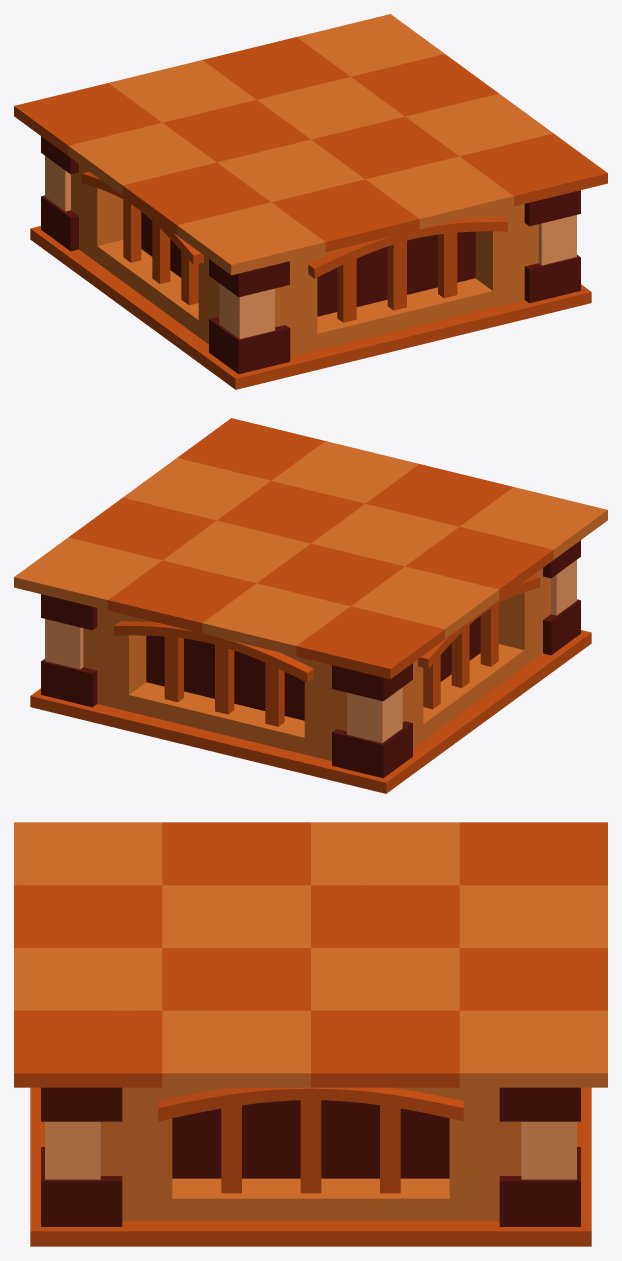
The model's file is Moving Platform Model.fbx.
The picture shows the model from 3 angles, top to bottom: view 1: azimuth 30°, elevation 25°; view 2: azimuth 150°, elevation 25°; view 3: azimuth 270°, elevation 25°; orthographic projection. The views are drawn at different scales.
Visible parts, largest first — view 1: Moving_Platform_Model; view 2: Moving_Platform_Model; view 3: Moving_Platform_Model.
Part boxes in pixels (left/top/right/bottom): Moving_Platform_Model: left=14, top=14, right=607, bottom=389; Moving_Platform_Model: left=14, top=418, right=607, bottom=793; Moving_Platform_Model: left=14, top=822, right=607, bottom=1246.
Bounding box in the file's own units: 2.25 × 0.8421 × 2.25.
Materials: 1 (1 with a texture image).
